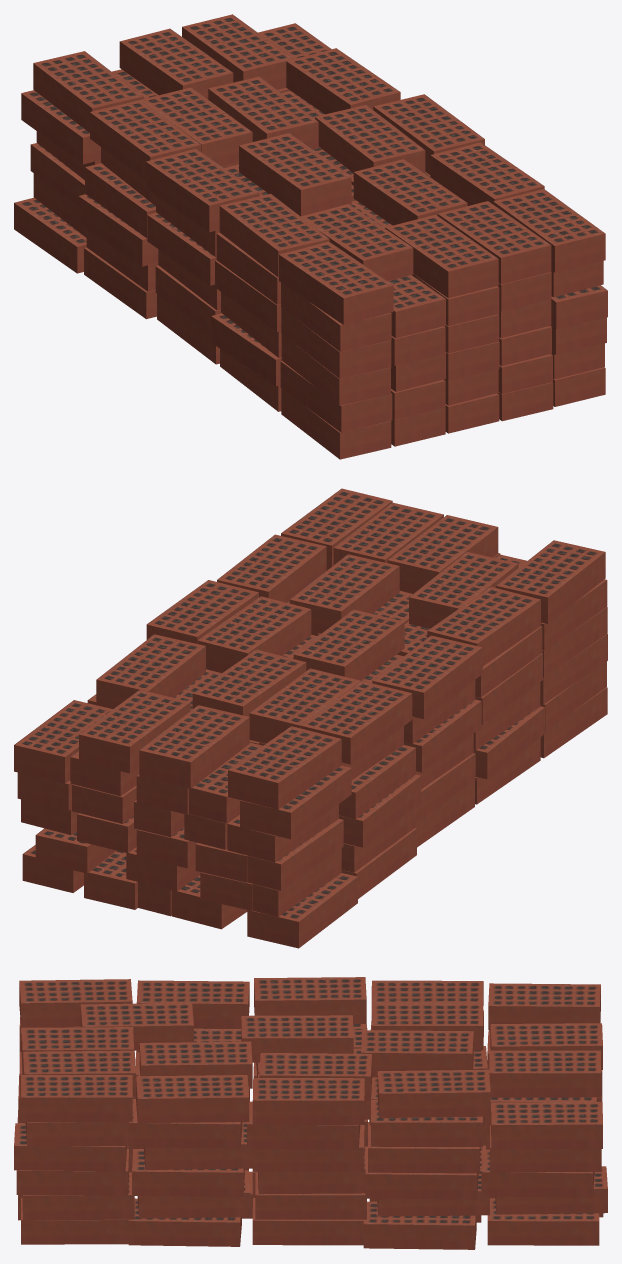
File: bricks.glb
3 renders of one model, top to bottom at view 1: azimuth 30°, elevation 25°; view 2: azimuth 150°, elevation 25°; view 3: azimuth 270°, elevation 25°, orthographic. The views are drawn at different scales.
Parts seen in each view (by area): view 1: Brick_Pile; view 2: Brick_Pile; view 3: Brick_Pile.
Part boxes in pixels (box(x1,y1,x2,y2)): Brick_Pile: box(14, 14, 607, 459); Brick_Pile: box(14, 488, 607, 948); Brick_Pile: box(14, 977, 607, 1249).
Size of the model in its own units: 1.35 by 0.726 by 2.66.
1 material, 1 textured.
